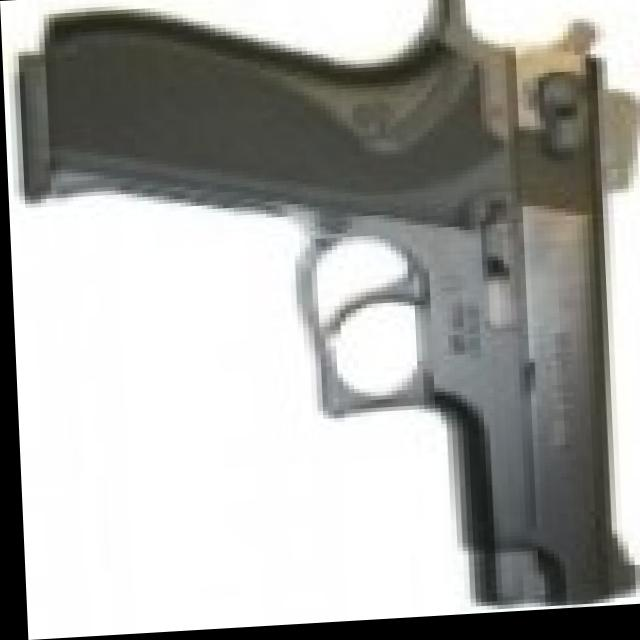handgun: (22, 0, 640, 627)
